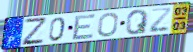0: (48, 17, 67, 42)
E: (71, 13, 97, 41)
O: (96, 12, 120, 38)
Q: (125, 9, 150, 36)
Z: (21, 17, 47, 47), (148, 8, 173, 34)
